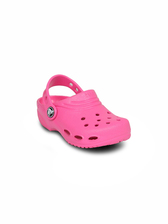shoes: (29, 72, 135, 148)
